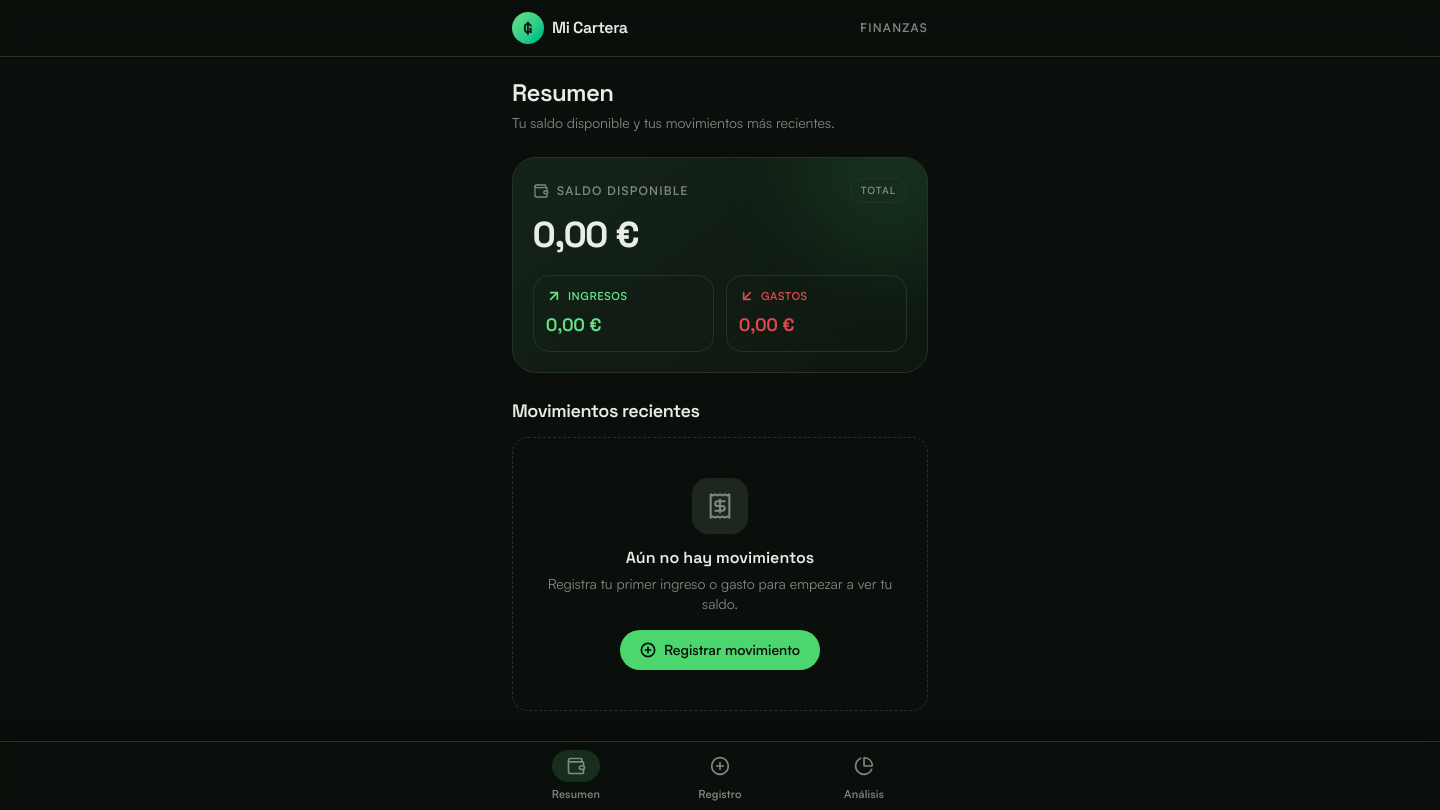
it: Registro › blocks submission and reports every missing required field
Click the link with test id "nav.registro" at (720, 778), box [698, 756, 742, 800]
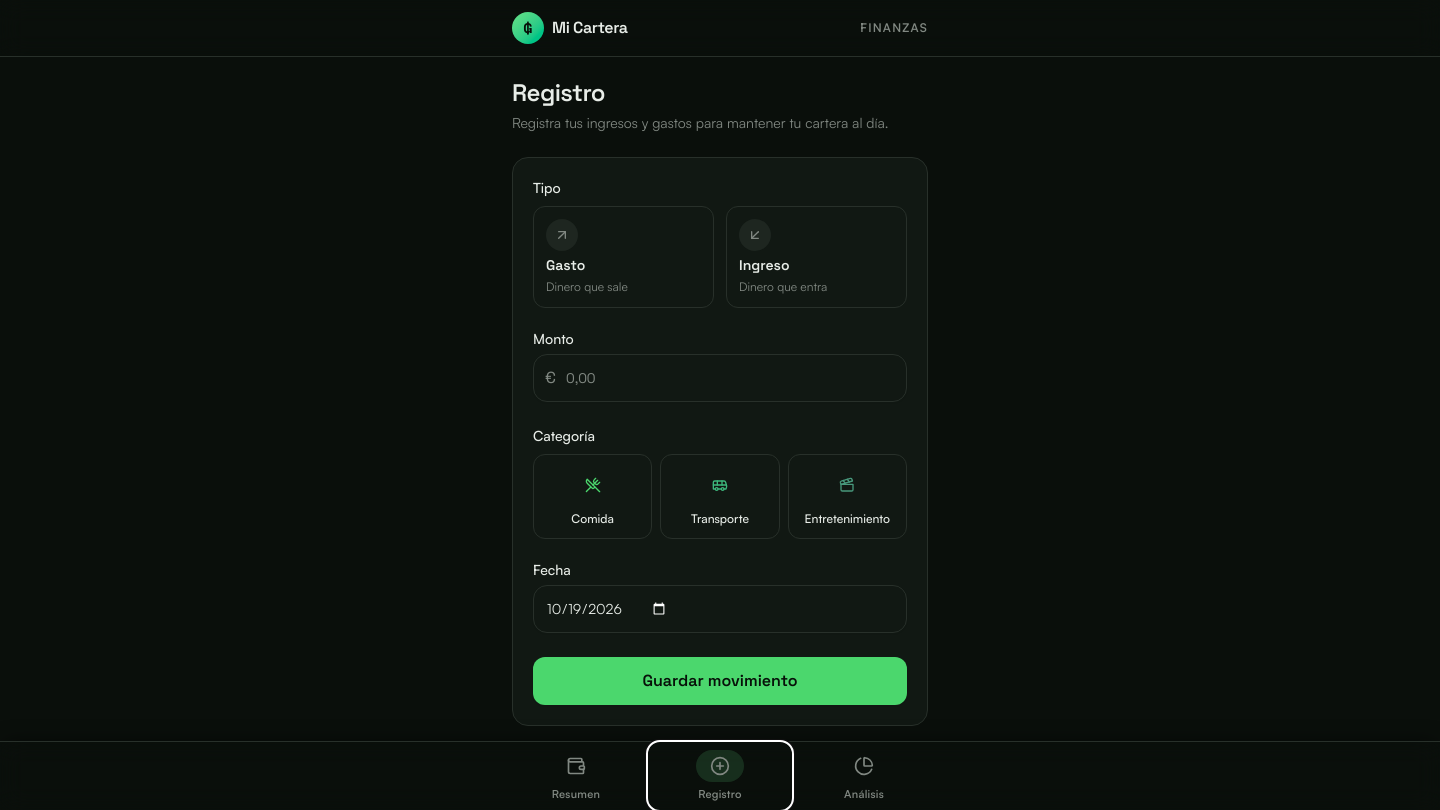
Click the button with test id "transaction.submit_button" at (720, 681), box [533, 657, 907, 705]
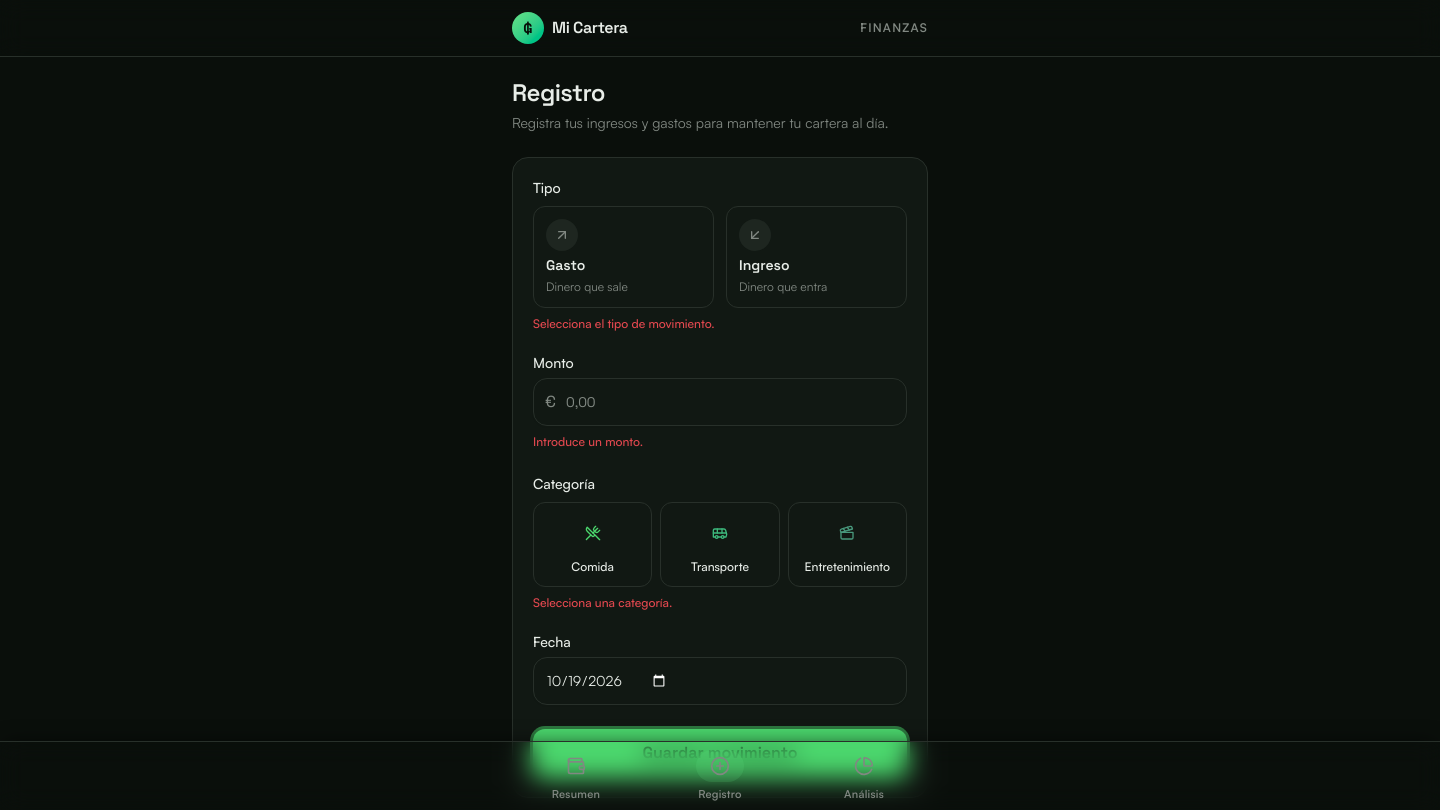
Now the text "Selecciona el tipo de movimiento." is shown, box [533, 316, 715, 331]
Now the text "Introduce un monto." is shown, box [533, 434, 643, 449]
Now the text "Selecciona una categoría." is shown, box [533, 595, 672, 610]
